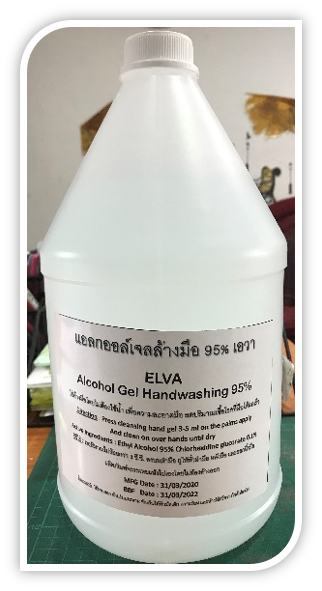Cleaning_solution: (36, 26, 290, 569)
